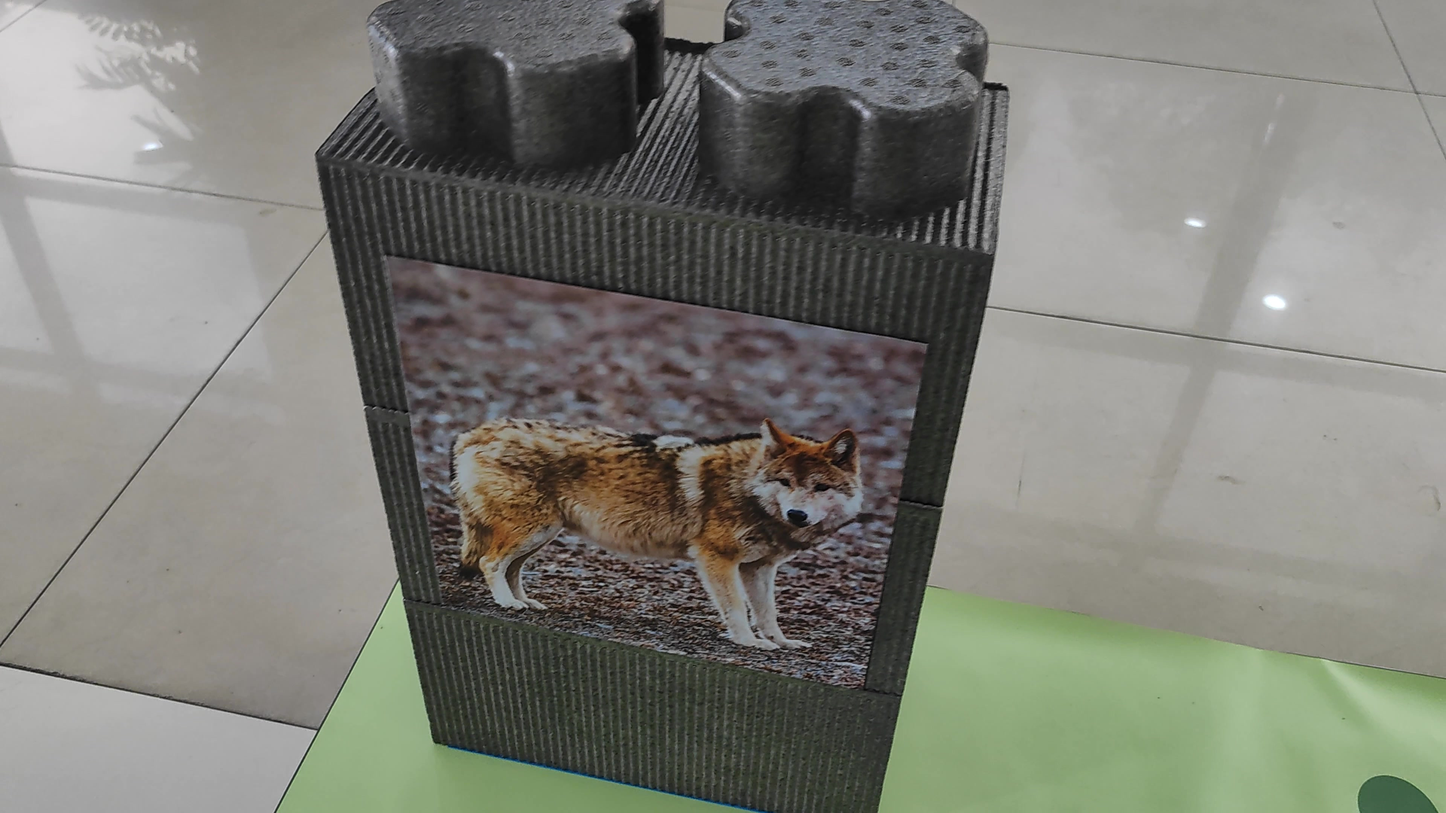wolf: (419, 343, 867, 661)
